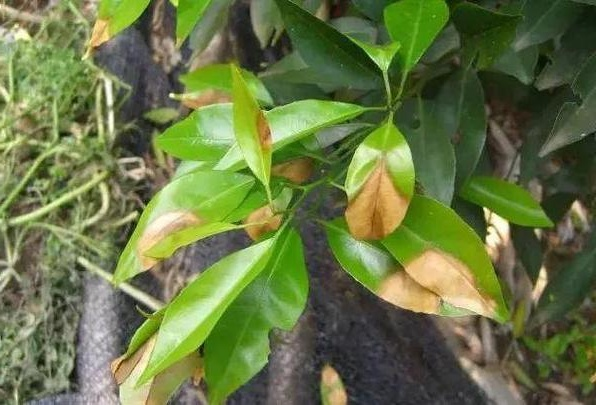Anthracnose: (129, 77, 315, 291), (375, 238, 515, 324), (327, 151, 419, 243)
